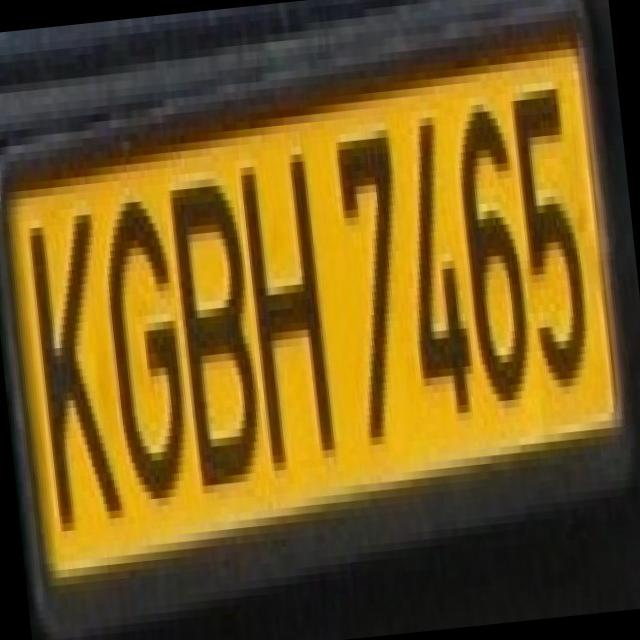4: (387, 100, 477, 417)
5: (502, 65, 592, 382)
6: (443, 79, 536, 404)
7: (314, 106, 425, 447)
B: (156, 152, 271, 494)
G: (84, 175, 200, 510)
H: (226, 130, 336, 472)
K: (9, 183, 128, 525)
